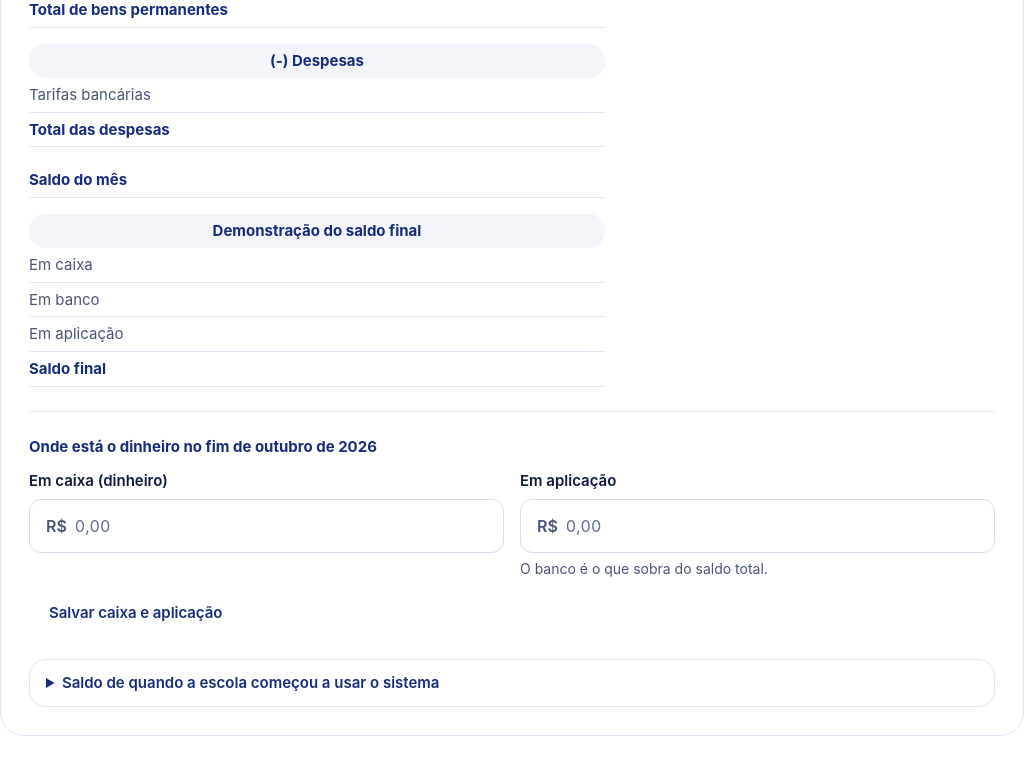
Test case: BalanceteCard › quem fecha o mes salva o caixa e a aplicacao, e a folha e lida de novo
This screenshot has width=1024, height=768.
(page scrolled)
Click the button "Salvar caixa e aplicação" at (136, 613), box [29, 591, 242, 635]
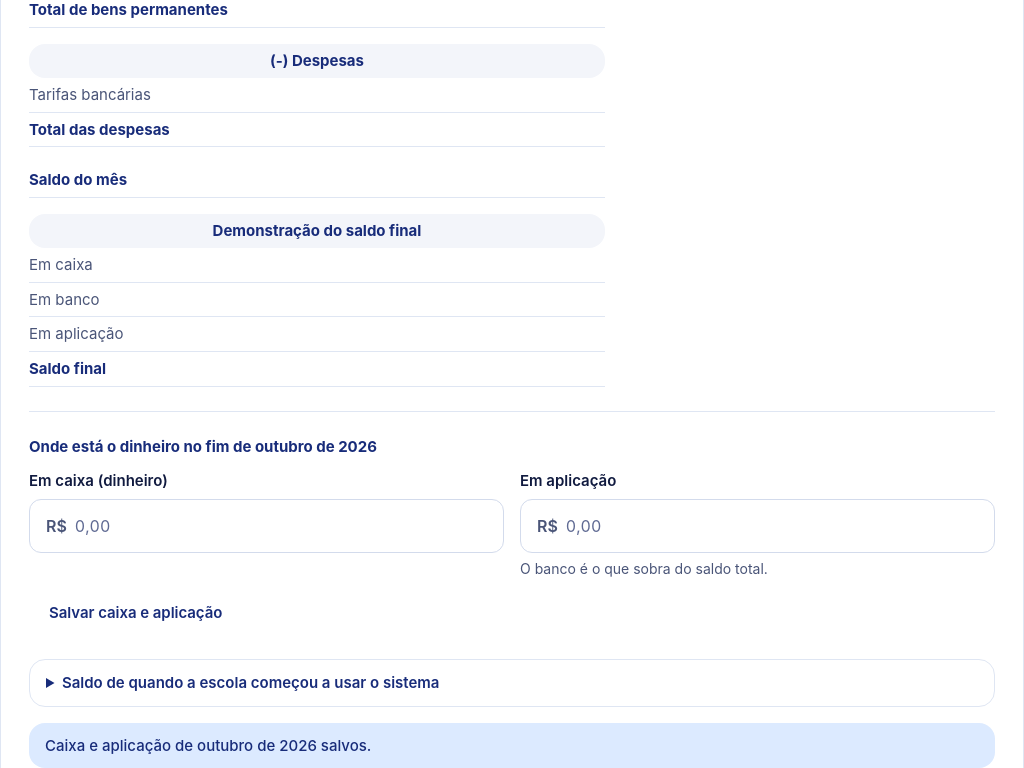
Result: the text "Caixa e aplicação de outubro de 2026 salvos." is shown at [29, 723, 995, 767]
